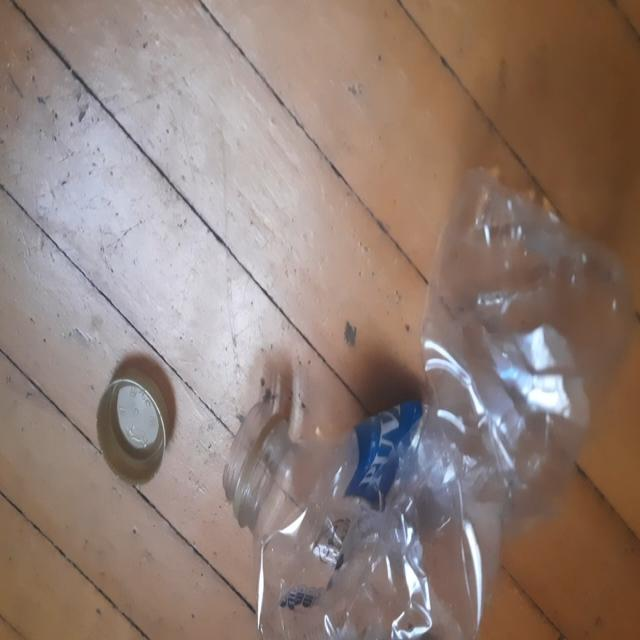Plastic: (226, 165, 634, 638)
